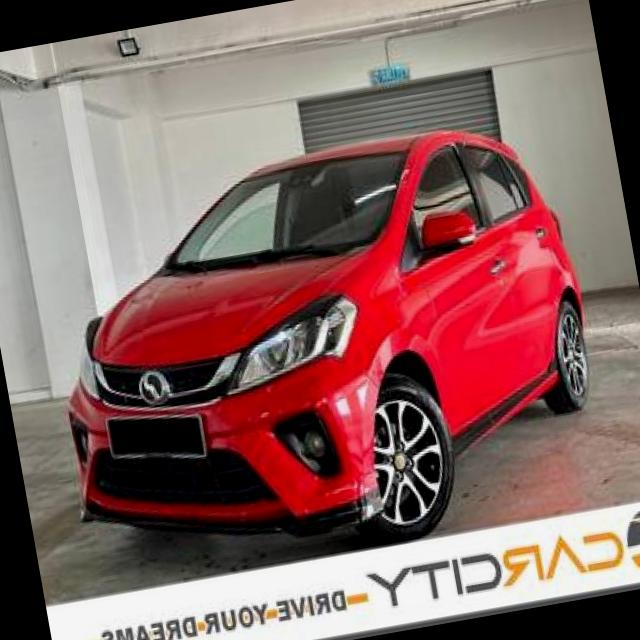PeroduaMyvi: (22, 103, 620, 594)
